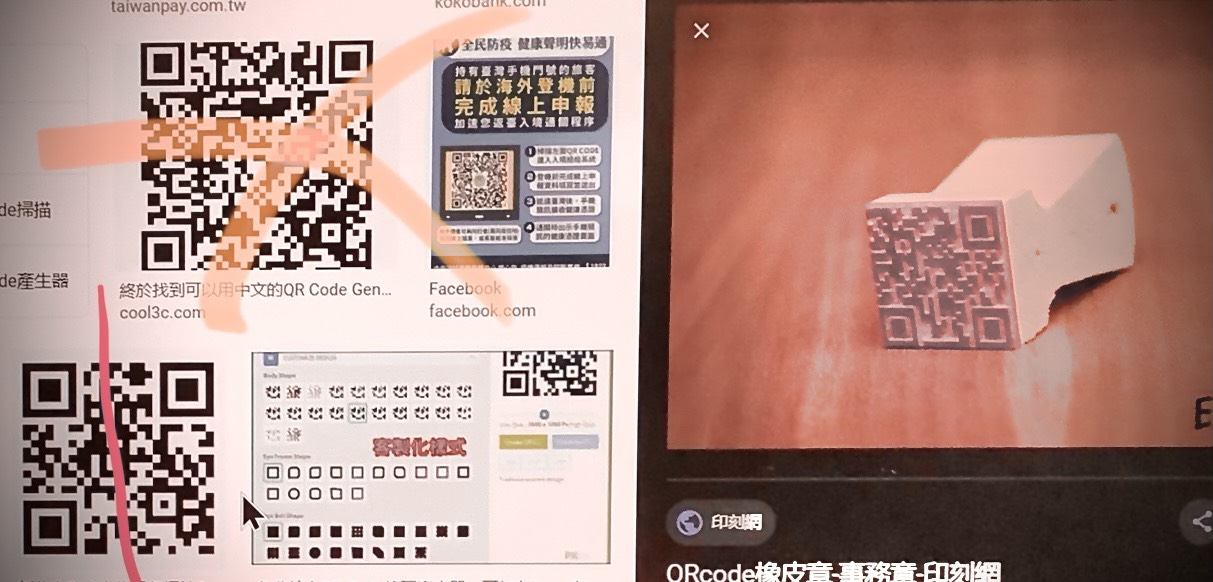QRCode: (140, 41, 373, 271), (23, 363, 217, 557), (863, 200, 1018, 353)
